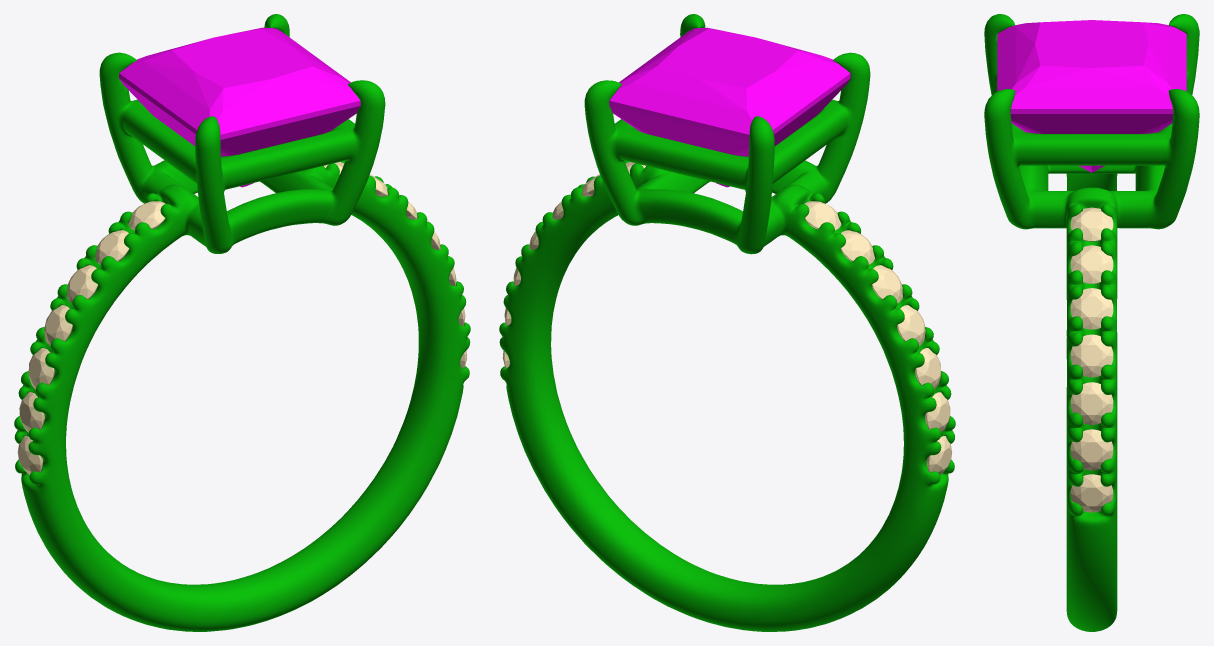
The model's file is BE1D437_PR_200ct_RENDER.glb.
3 renders of one model, left to right at view 1: azimuth 30°, elevation 25°; view 2: azimuth 150°, elevation 25°; view 3: azimuth 270°, elevation 25°, orthographic.
Visible parts, largest first — view 1: Metal 01, CS_Diamond_Princess, Diamond_Round_Gem_SH.009, Diamond_Round_Gem_SH.010, Diamond_Round_Gem_SH.008, Diamond_Round_Gem_SH.007, Diamond_Round_Gem_SH.011, Diamond_Round_Gem_SH.012; view 2: Metal 01, CS_Diamond_Princess, Diamond_Round_Gem_SH.009, Diamond_Round_Gem_SH.010, Diamond_Round_Gem_SH.008, Diamond_Round_Gem_SH.007, Diamond_Round_Gem_SH.011, Diamond_Round_Gem_SH.012; view 3: Metal 01, CS_Diamond_Princess, Diamond_Round_Gem_SH.003, Diamond_Round_Gem_SH.004, Diamond_Round_Gem_SH.002, Diamond_Round_Gem_SH.005, Diamond_Round_Gem_SH.006, Diamond_Round_Gem_SH.001, Diamond_Round_Gem_SH.
Boxes of the visible parts, x1,y1,x2,y2 form: Metal 01: (14, 14, 470, 631); CS_Diamond_Princess: (119, 27, 360, 187); Diamond_Round_Gem_SH.009: (67, 265, 97, 302); Diamond_Round_Gem_SH.010: (44, 305, 72, 345); Diamond_Round_Gem_SH.008: (95, 230, 128, 264); Diamond_Round_Gem_SH.007: (128, 201, 165, 230); Diamond_Round_Gem_SH.011: (28, 348, 54, 389); Diamond_Round_Gem_SH.012: (19, 392, 44, 432); Metal 01: (499, 14, 955, 631); CS_Diamond_Princess: (609, 27, 850, 187); Diamond_Round_Gem_SH.009: (872, 265, 902, 303); Diamond_Round_Gem_SH.010: (897, 305, 925, 345); Diamond_Round_Gem_SH.008: (840, 230, 874, 264); Diamond_Round_Gem_SH.007: (804, 201, 841, 230); Diamond_Round_Gem_SH.011: (915, 348, 941, 389); Diamond_Round_Gem_SH.012: (925, 392, 950, 432); Metal 01: (984, 14, 1199, 631); CS_Diamond_Princess: (997, 20, 1186, 172); Diamond_Round_Gem_SH.003: (1070, 334, 1113, 377); Diamond_Round_Gem_SH.004: (1070, 382, 1113, 424); Diamond_Round_Gem_SH.002: (1070, 288, 1113, 329); Diamond_Round_Gem_SH.005: (1070, 429, 1113, 470); Diamond_Round_Gem_SH.006: (1070, 474, 1113, 512); Diamond_Round_Gem_SH.001: (1070, 245, 1113, 283); Diamond_Round_Gem_SH: (1070, 207, 1113, 241).
Size of the model in its own units: 20.09 by 24.63 by 8.51.
